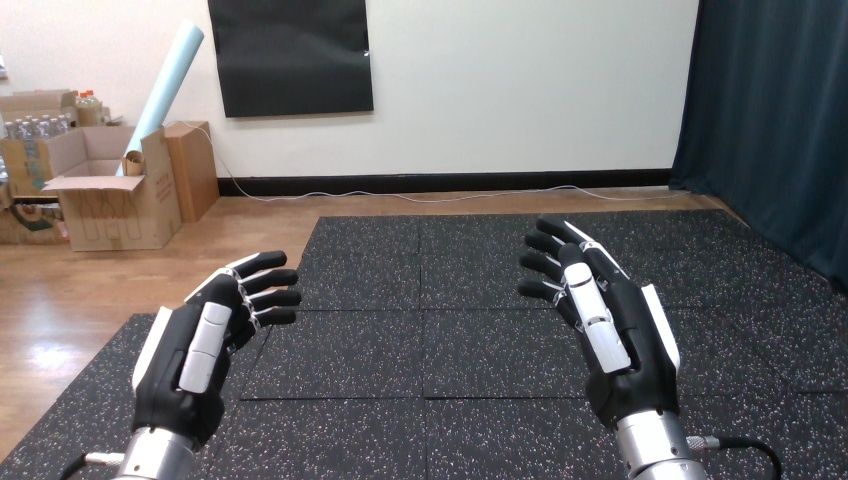left robot hand: (518, 216, 780, 479), (61, 250, 300, 479), (518, 216, 706, 479)
